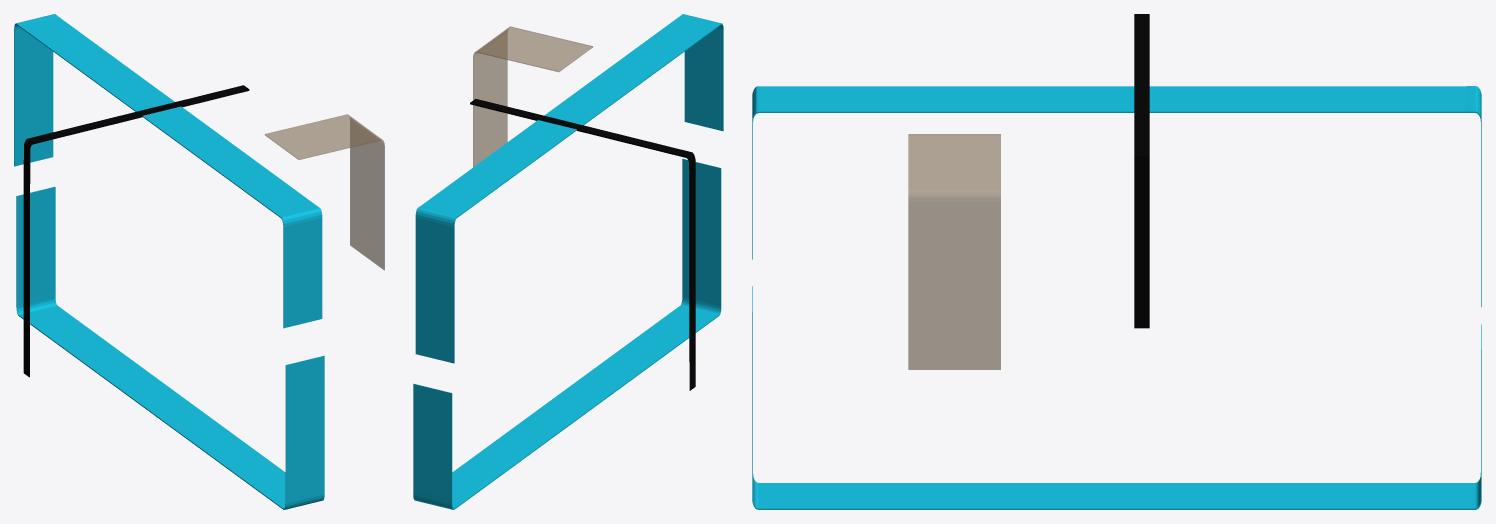
Rendered from tape_close_2.fbx.
3 views of the same model, side by side, from view 1: azimuth 30°, elevation 25°; view 2: azimuth 150°, elevation 25°; view 3: azimuth 270°, elevation 25° (orthographic). The views are drawn at different scales.
Parts seen in each view (by area): view 1: tape_0.008, 평면.032, 평면.033; view 2: tape_0.008, 평면.032, 평면.033; view 3: tape_0.008, 평면.032, 평면.033.
Part boxes in pixels (x1,y1,x2,y2): tape_0.008: (14, 14, 324, 509); 평면.032: (264, 114, 384, 270); 평면.033: (23, 85, 249, 377); tape_0.008: (413, 14, 723, 509); 평면.032: (473, 26, 592, 167); 평면.033: (470, 98, 695, 390); tape_0.008: (752, 86, 1481, 509); 평면.032: (908, 134, 1000, 369); 평면.033: (1134, 14, 1149, 328).
Size of the model in its own units: 146 by 151 by 251.
